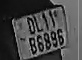1: (42, 12, 50, 32), (48, 11, 57, 28)
6: (35, 34, 46, 52), (56, 29, 65, 46)
8: (43, 32, 53, 50)
9: (50, 30, 58, 47)
B: (28, 36, 38, 55)
D: (24, 17, 37, 34)
L: (33, 16, 44, 33)
